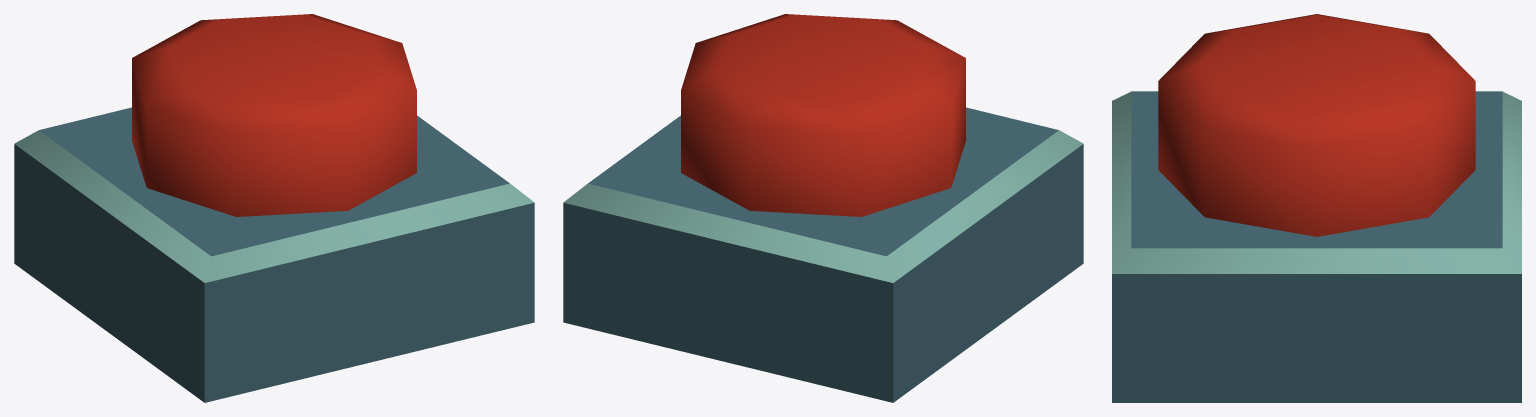
Rendered from button_red.fbx.
The picture shows the model from 3 angles, left to right: view 1: azimuth 30°, elevation 25°; view 2: azimuth 150°, elevation 25°; view 3: azimuth 270°, elevation 25°; orthographic projection. The views are drawn at different scales.
Parts seen in each view (by area): view 1: button_red; view 2: button_red; view 3: button_red.
Part boxes in pixels (<box>): button_red: <box>14,14,534,402</box>; button_red: <box>563,14,1083,402</box>; button_red: <box>1112,14,1521,402</box>.
Bounding box in the file's own units: 100 × 67.84 × 100.
1 material, 1 textured.
